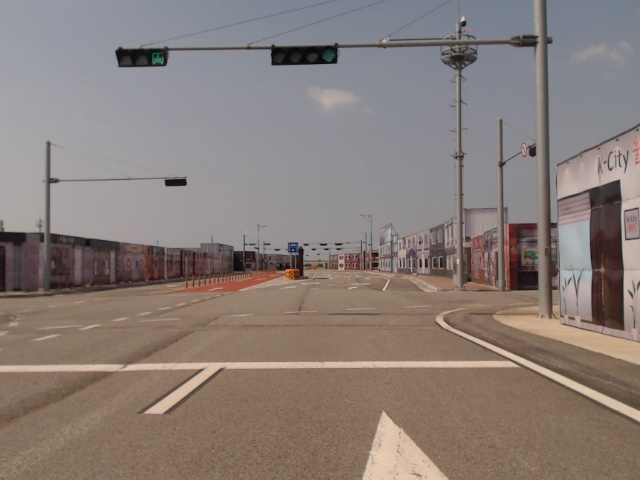straight_green_4: (272, 47, 338, 63)
